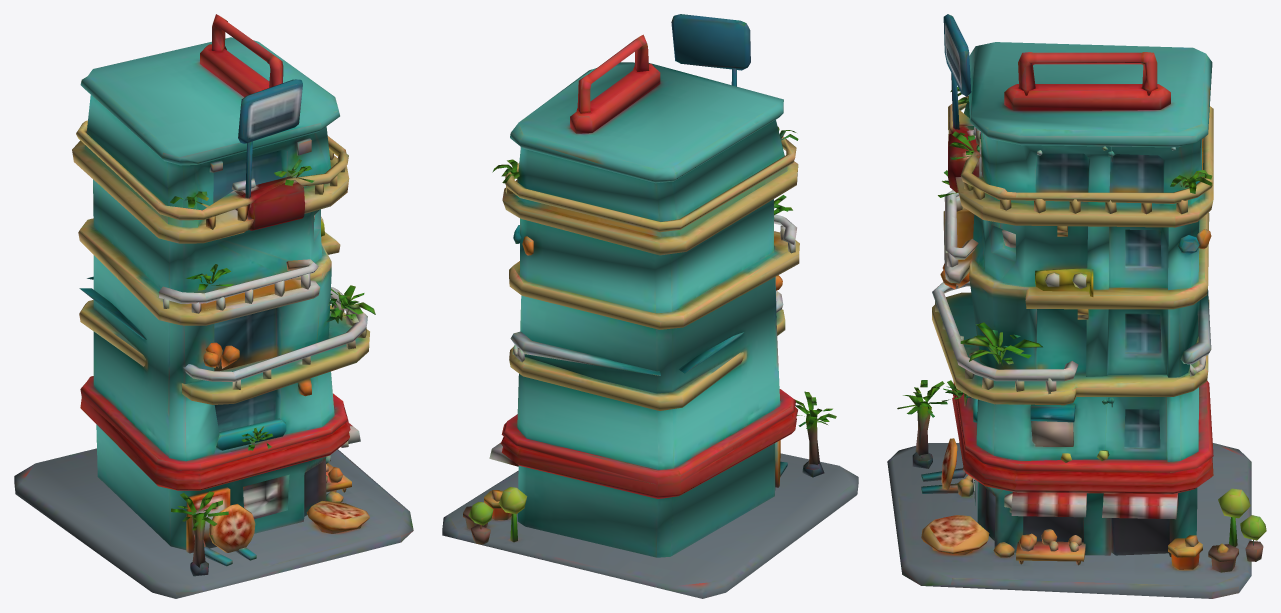
Rendered from bld-teal.glb.
3 views of the same model, side by side, from view 1: azimuth 30°, elevation 25°; view 2: azimuth 150°, elevation 25°; view 3: azimuth 270°, elevation 25° (orthographic). The views are drawn at different scales.
Parts seen in each view (by area): view 1: tripo_node_486d1c28-c5d1-4db2-993a-2ec2a56f8dea; view 2: tripo_node_486d1c28-c5d1-4db2-993a-2ec2a56f8dea; view 3: tripo_node_486d1c28-c5d1-4db2-993a-2ec2a56f8dea.
Boxes of the visible parts, box(x1,y1,x2,y2) form: tripo_node_486d1c28-c5d1-4db2-993a-2ec2a56f8dea: box(14, 14, 413, 598); tripo_node_486d1c28-c5d1-4db2-993a-2ec2a56f8dea: box(442, 14, 858, 598); tripo_node_486d1c28-c5d1-4db2-993a-2ec2a56f8dea: box(887, 14, 1266, 598).
Size of the model in its own units: 0.6465 by 0.998 by 0.6972.
1 material, 1 textured.
